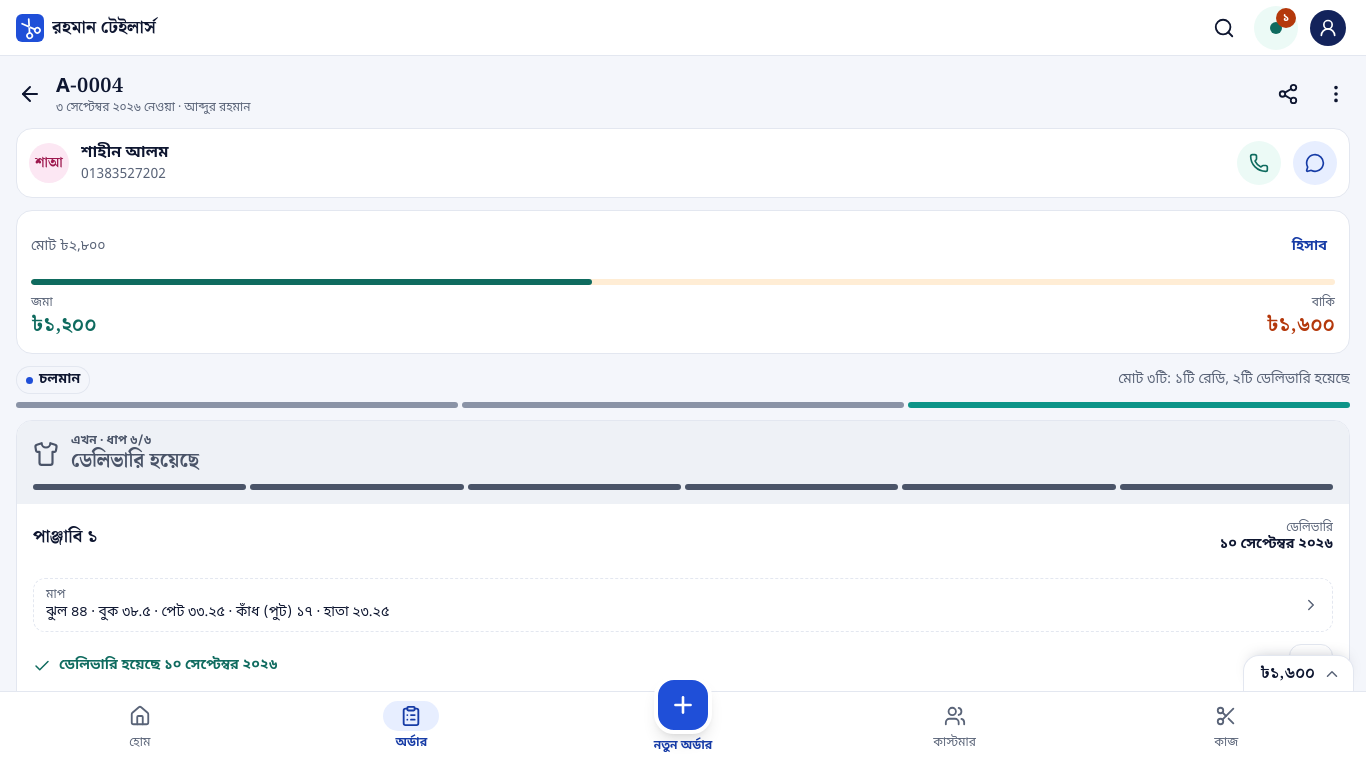
Order detail on a phone › never records money from one tap: Take payment opens the existing dialog
Click the button named "পেমেন্ট বার দেখান" at x=1298, y=673, box [1243, 655, 1354, 691]
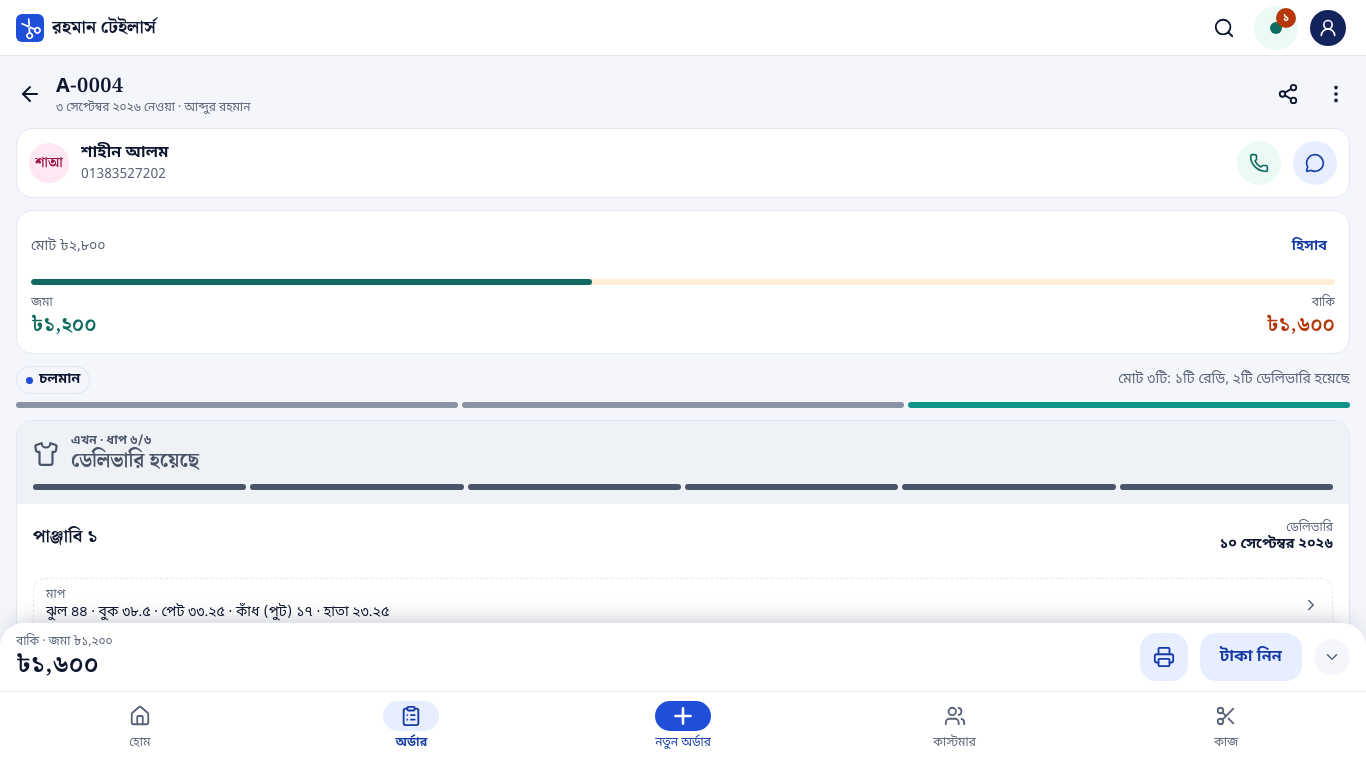
Click the button "টাকা নিন" at x=1251, y=657, box [1200, 633, 1302, 681]
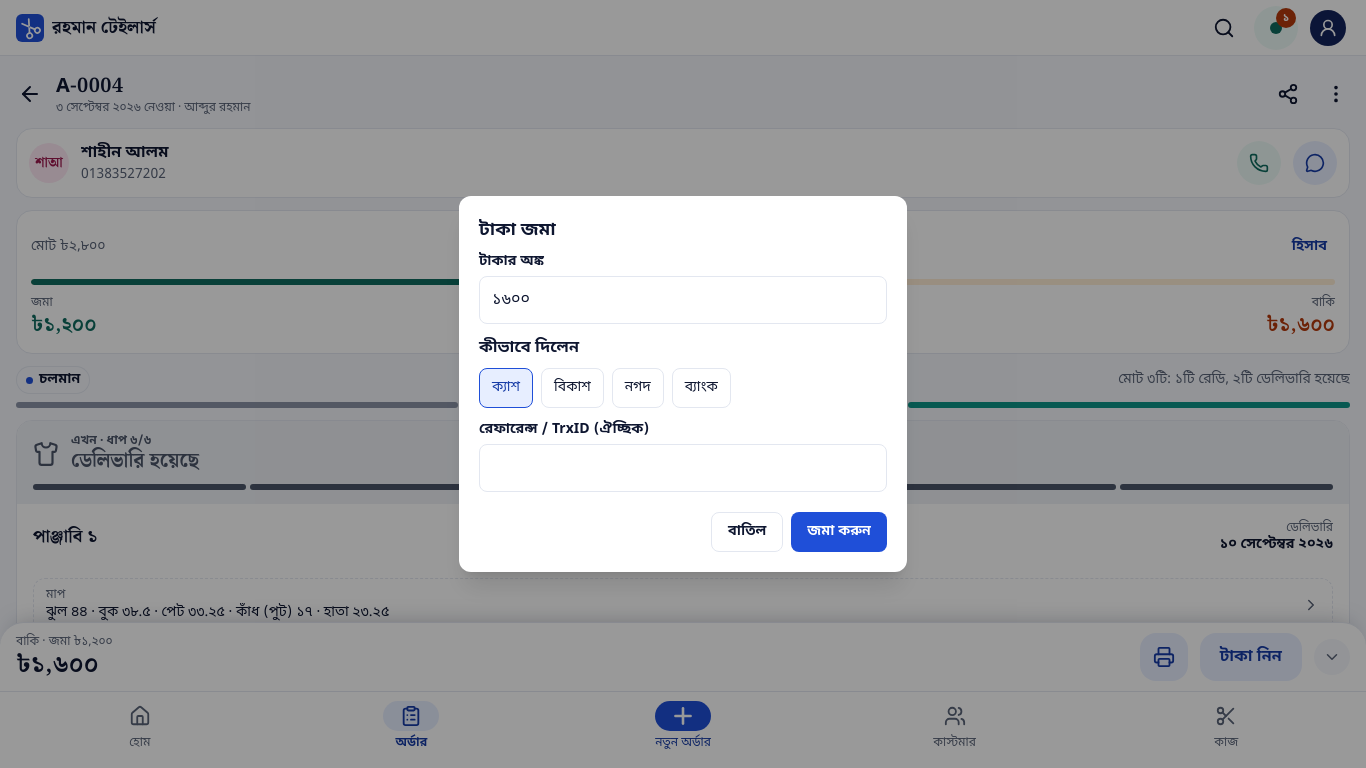
Result: the dialog "টাকা জমা" is shown at [459, 196, 907, 572]
